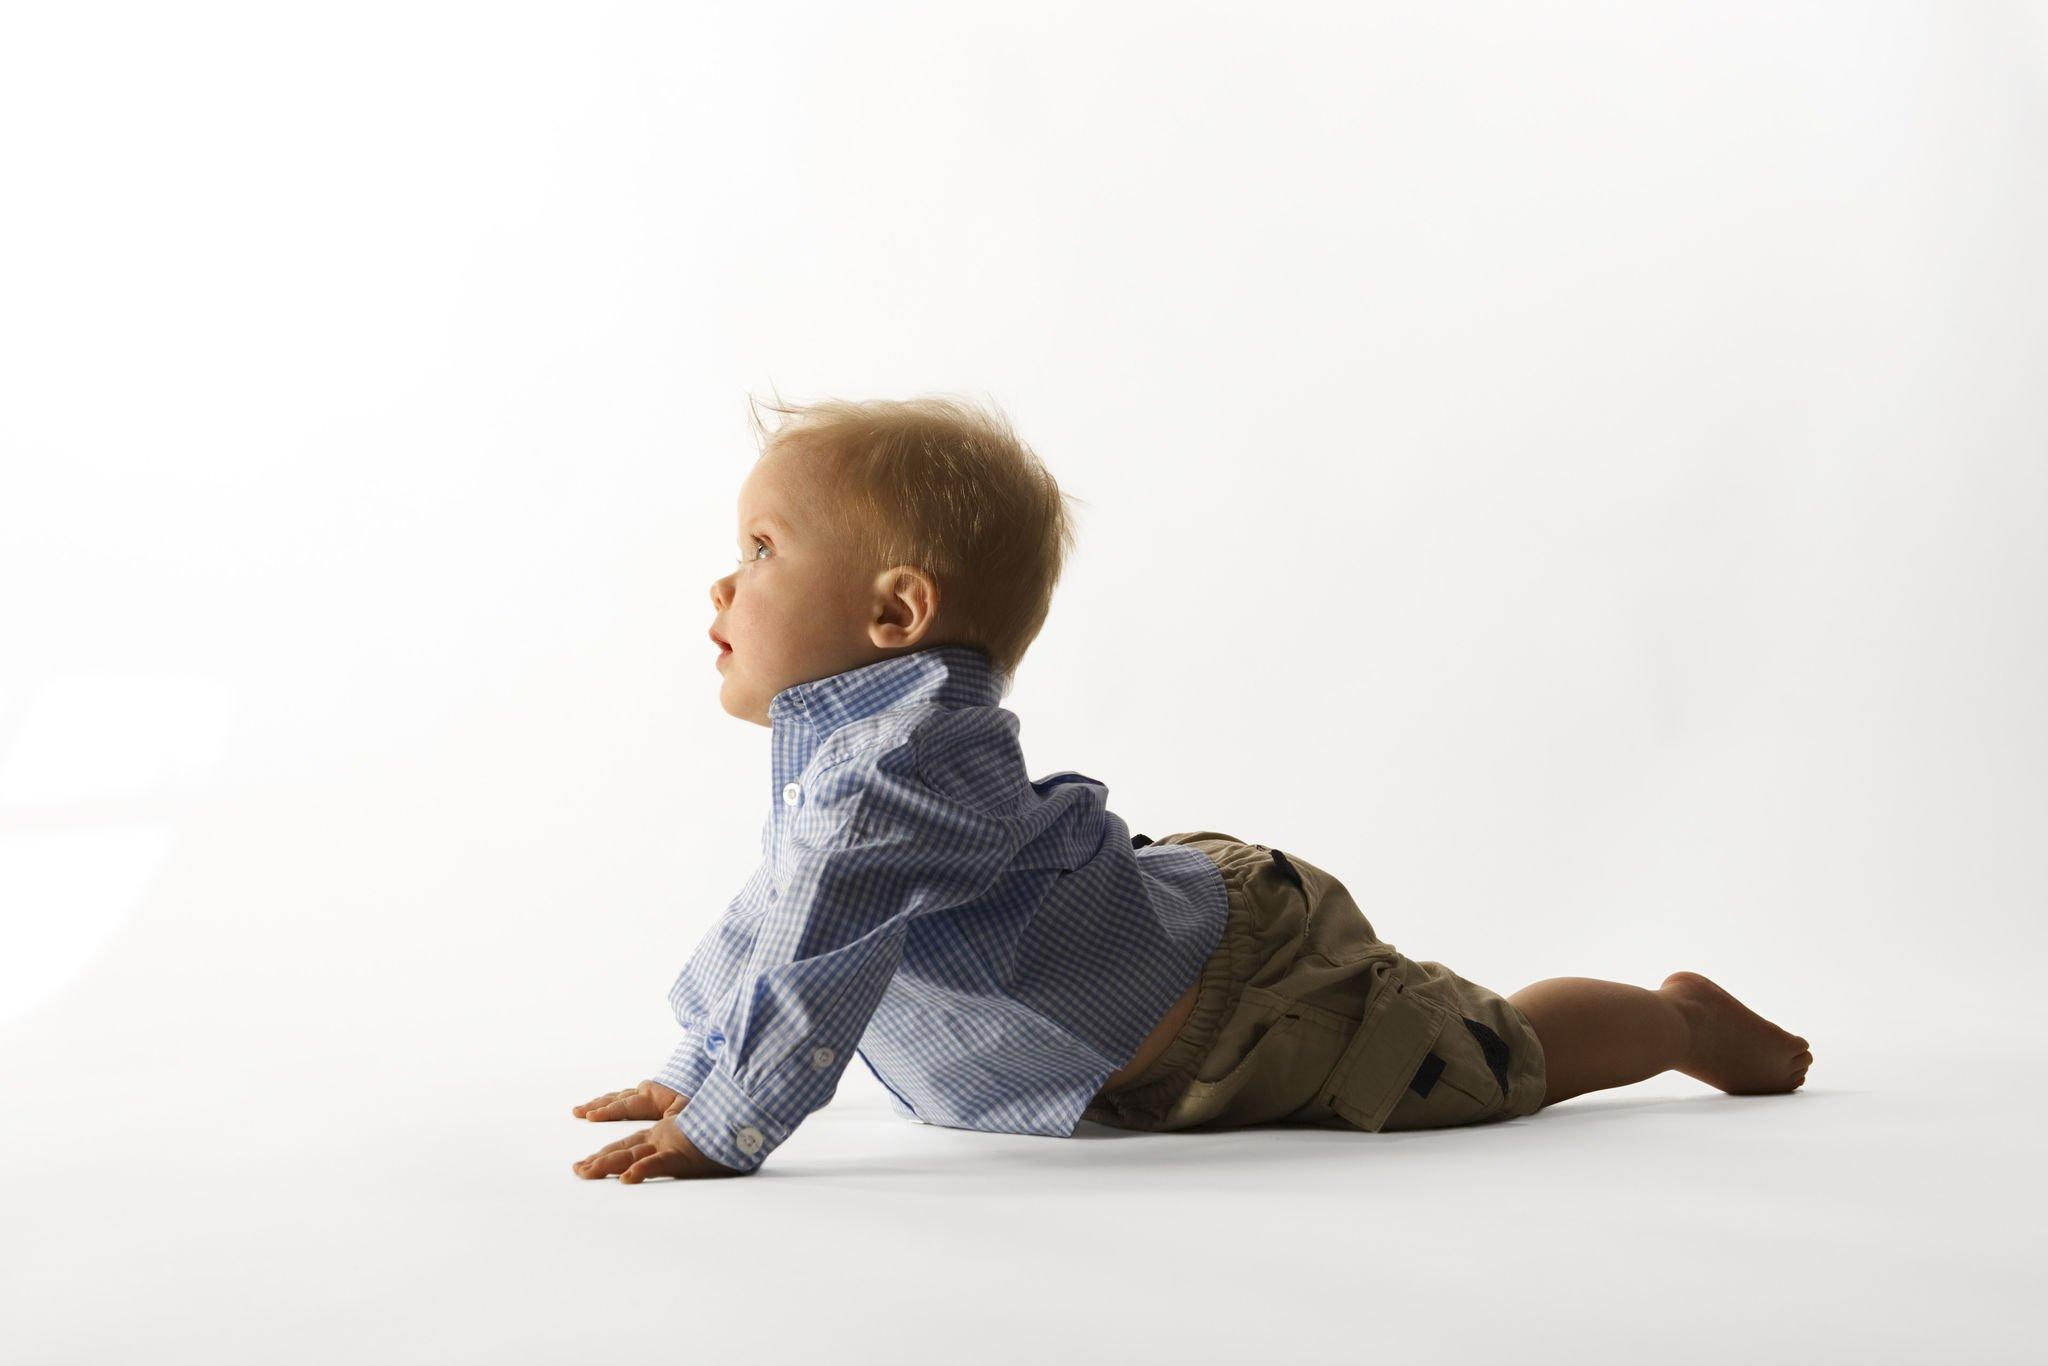Healthy: (696, 377, 1026, 726)
